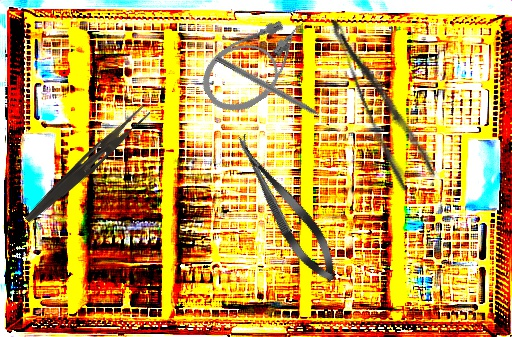Cannula: (191, 5, 326, 124)
Dressing Forceps: (326, 4, 439, 193), (22, 100, 152, 230)
Hook Surgical: (214, 55, 335, 127)
Micro Scissor: (225, 127, 347, 290)
